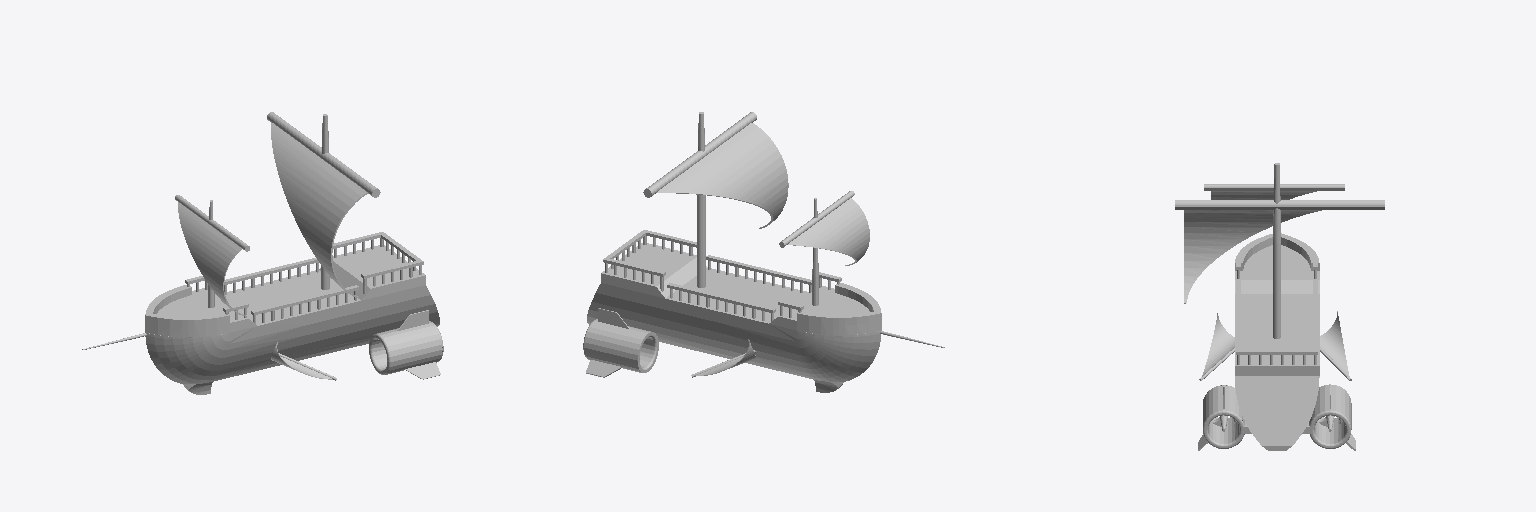
The model's file is ship_assem_v3.obj.
3 renders of one model, left to right at view 1: azimuth 30°, elevation 25°; view 2: azimuth 150°, elevation 25°; view 3: azimuth 270°, elevation 25°, orthographic.
Size of the model in its own units: 95 by 64.97 by 49.5.